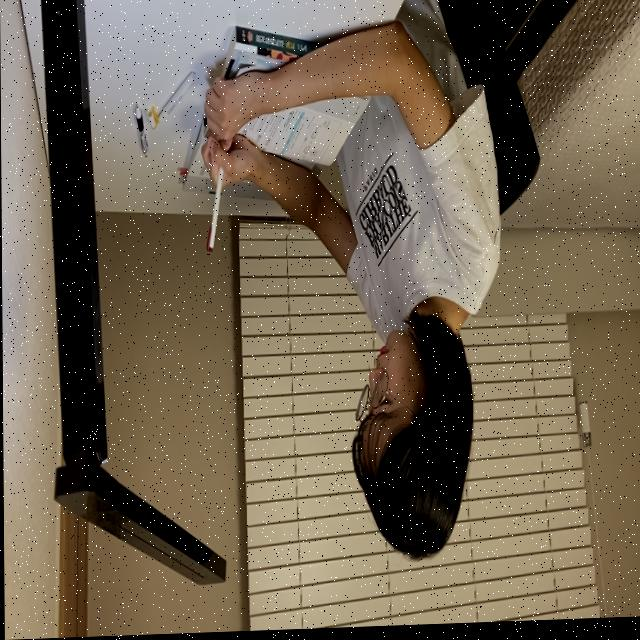studying-person: (190, 0, 506, 587)
